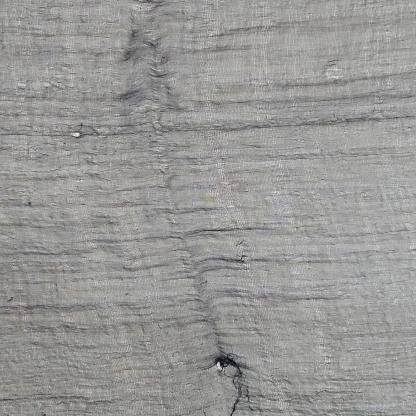spot: (197, 180, 270, 208)
